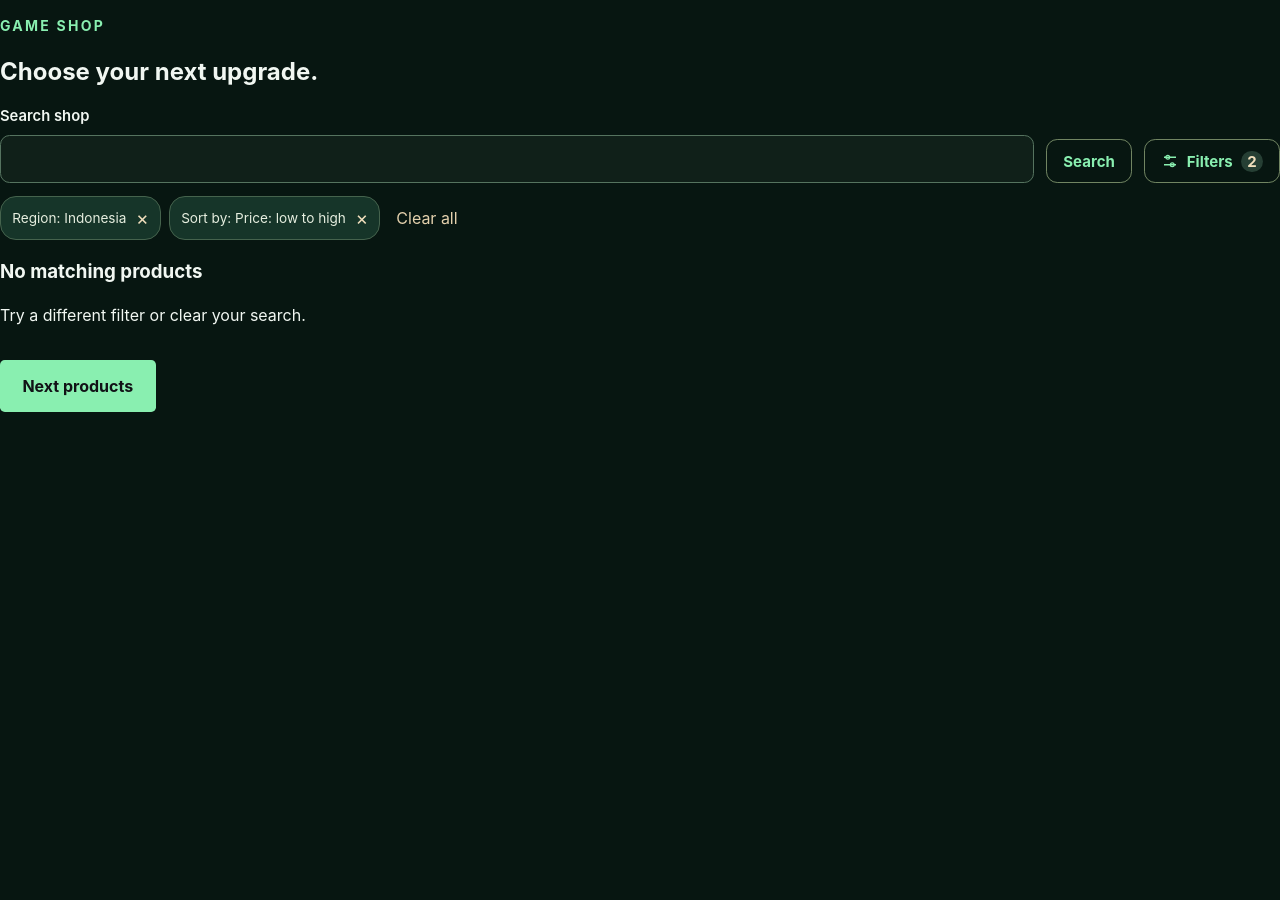
Test: restores price_asc from the URL and clears to the default
Step 1. Click the button "Filters 2" → (1212, 162), box x1=1144 y1=140 x2=1279 y2=184
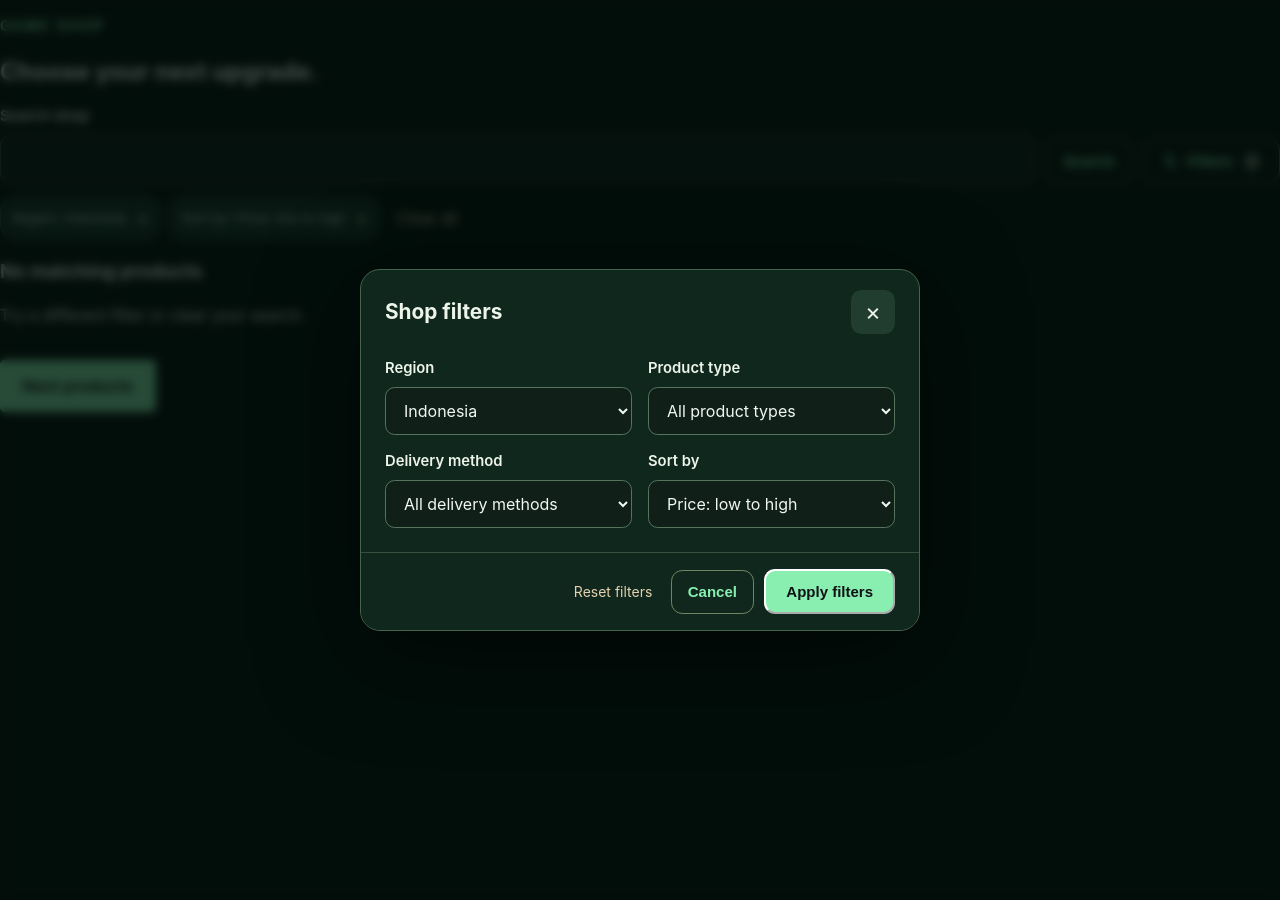
Result: the dropdown labelled "Sort by" shows "Price: low to high" at x1=648 y1=480 x2=895 y2=528
Step 2. Click the button "Cancel" → (712, 592), box x1=671 y1=570 x2=754 y2=614
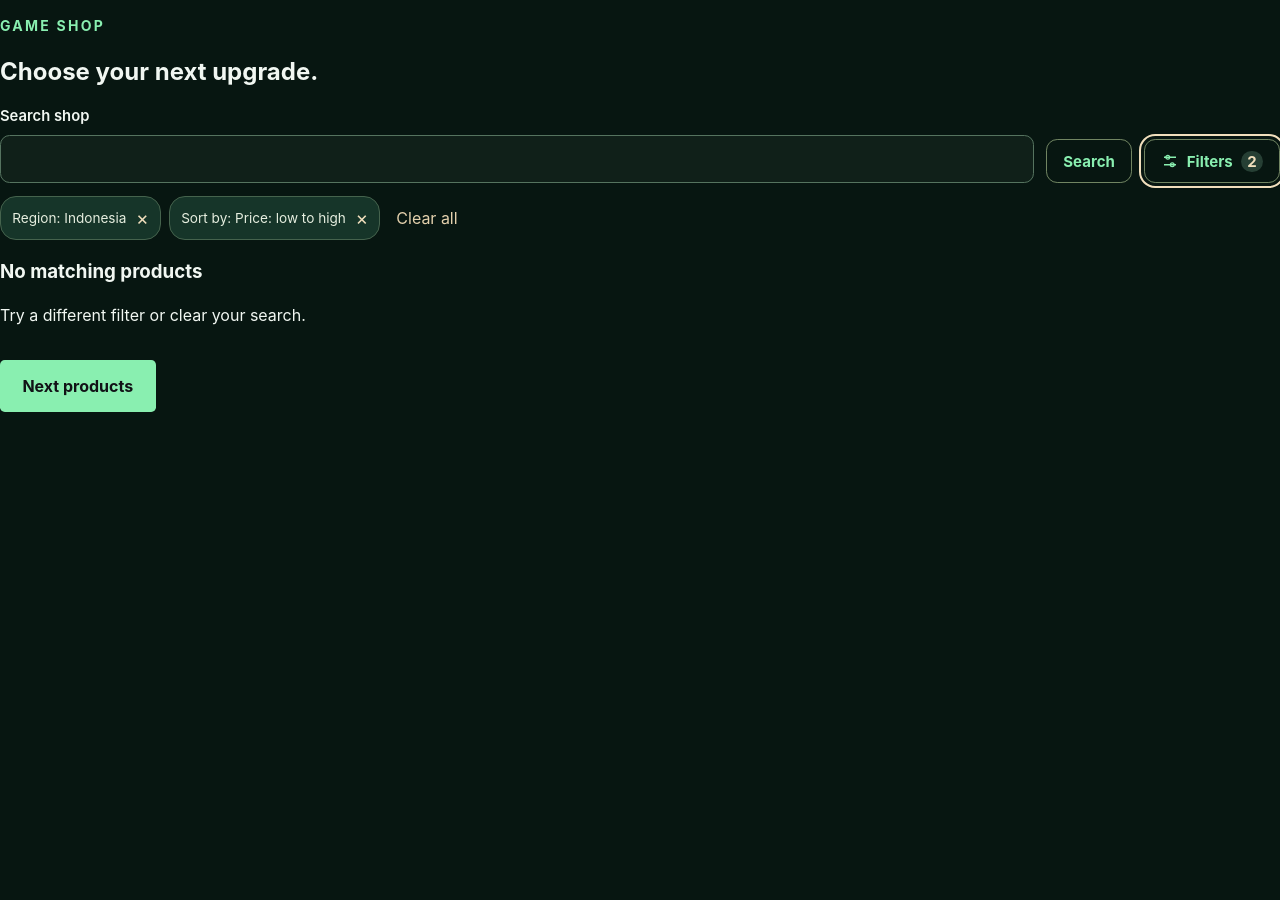
Step 3. Click the button "Clear all" → (427, 218), box x1=388 y1=196 x2=466 y2=240
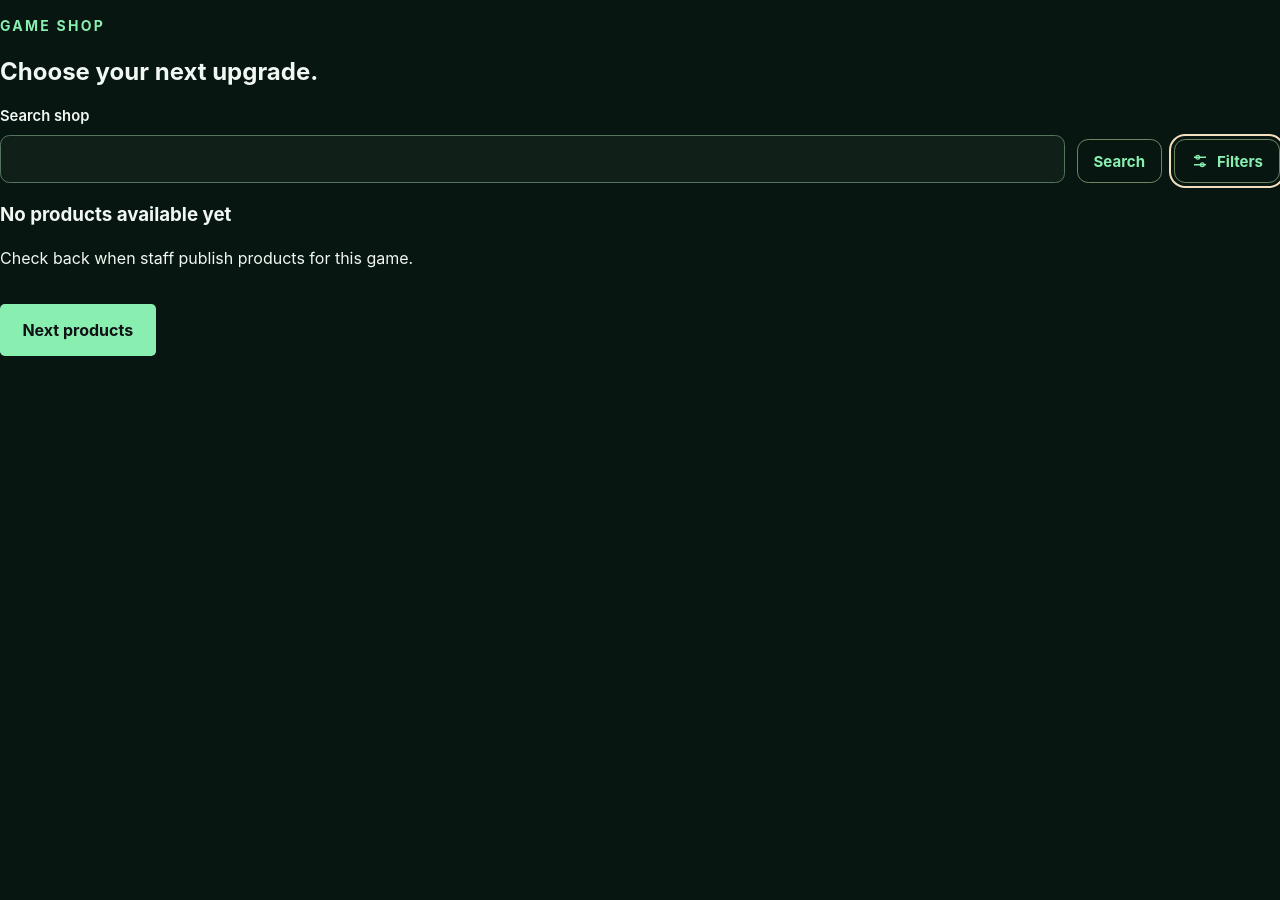
Step 4. Click the button "Filters" → (1227, 162), box x1=1174 y1=140 x2=1279 y2=184
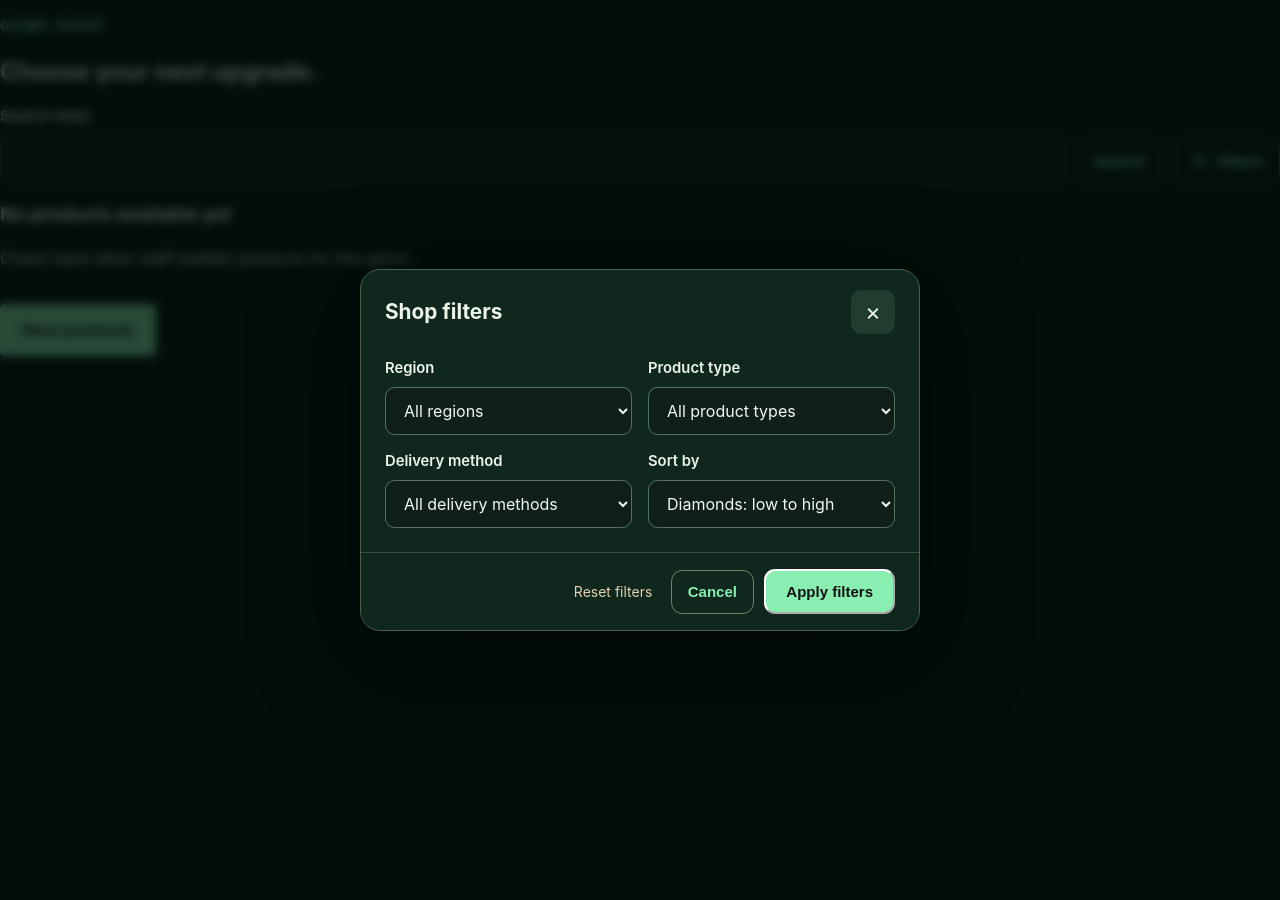
Result: the dropdown labelled "Sort by" shows "Diamonds: low to high" at x1=648 y1=480 x2=895 y2=528
Result: the dropdown labelled "Region" shows "All regions" at x1=385 y1=387 x2=632 y2=435
